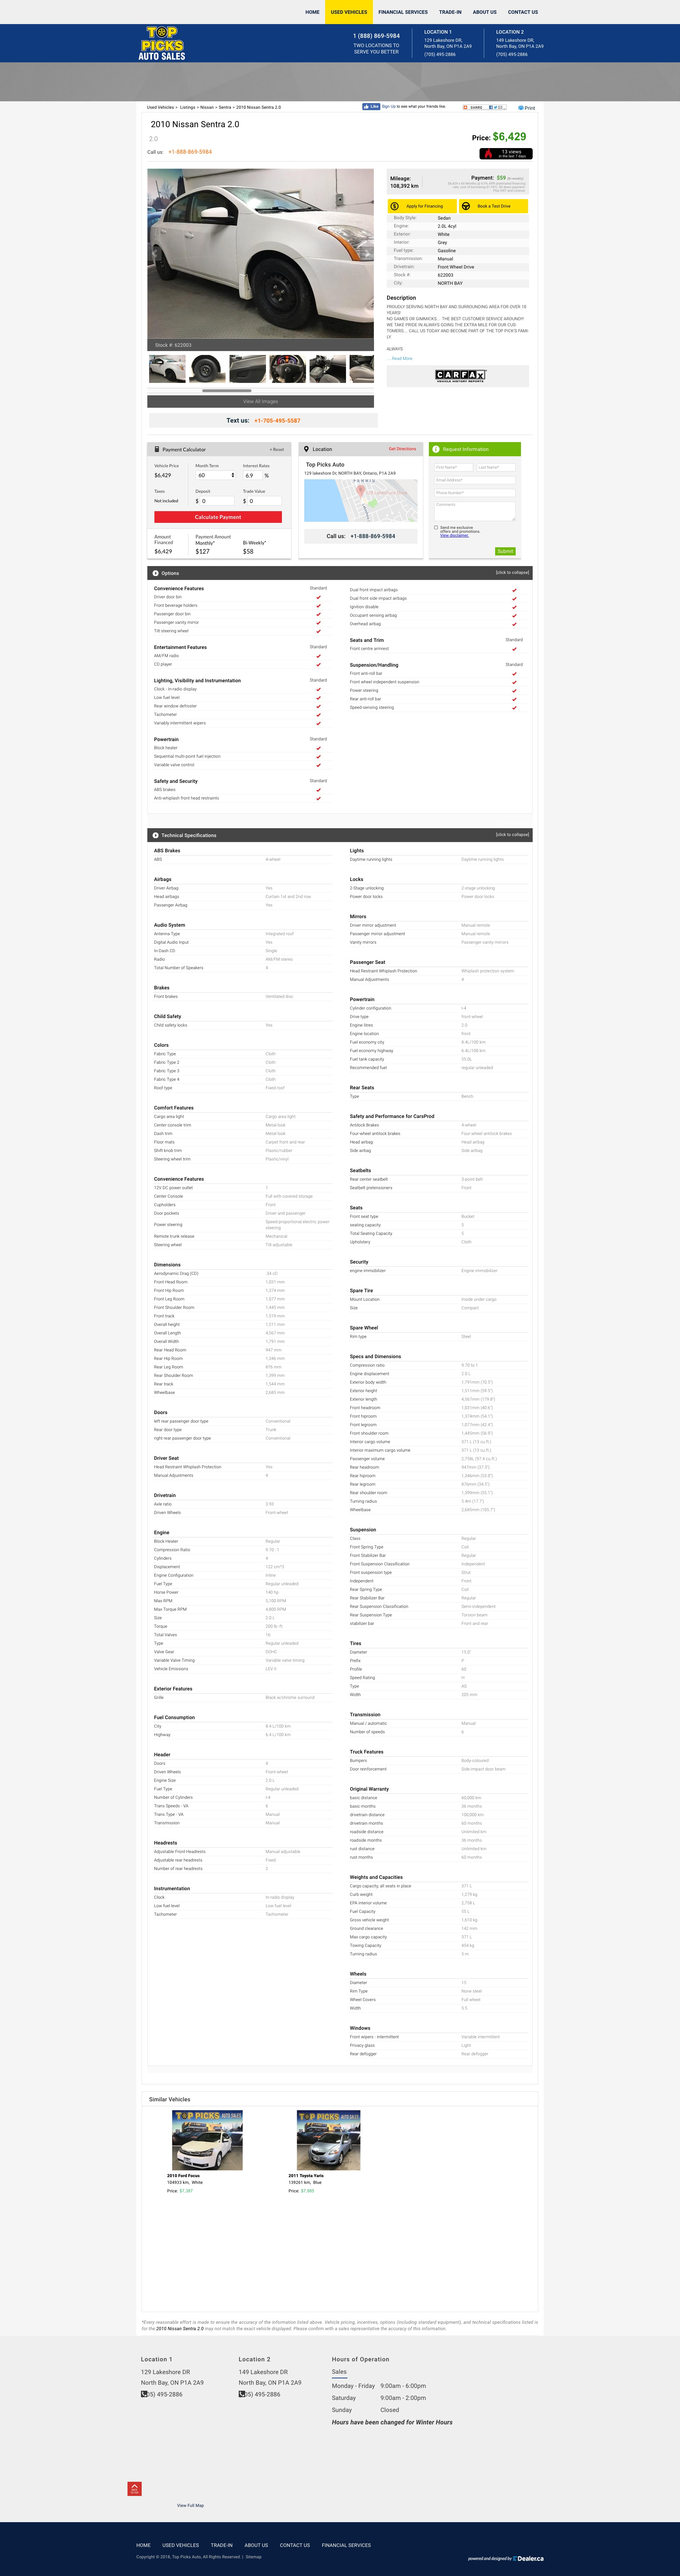car: (360, 245, 374, 263)
